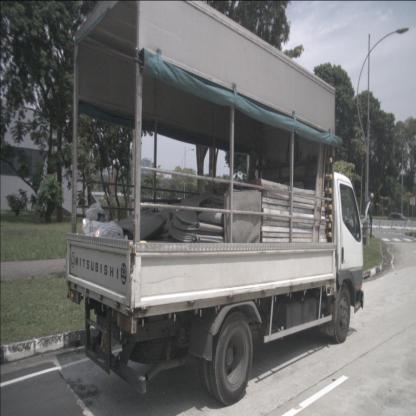vehicle-car: (387, 212, 409, 226)
vehicle-truck: (65, 0, 364, 407)
